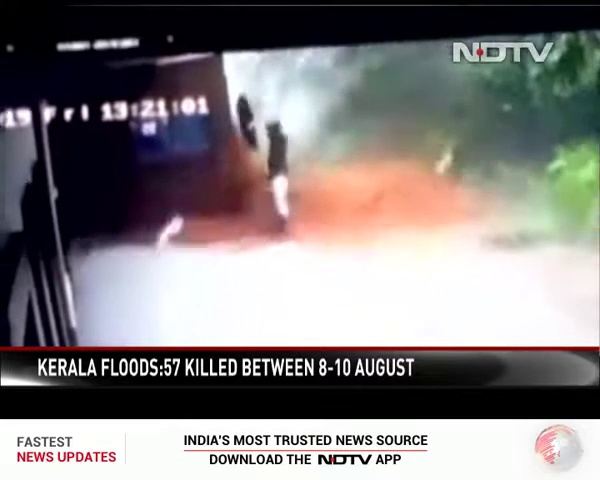person: (263, 120, 289, 229)
